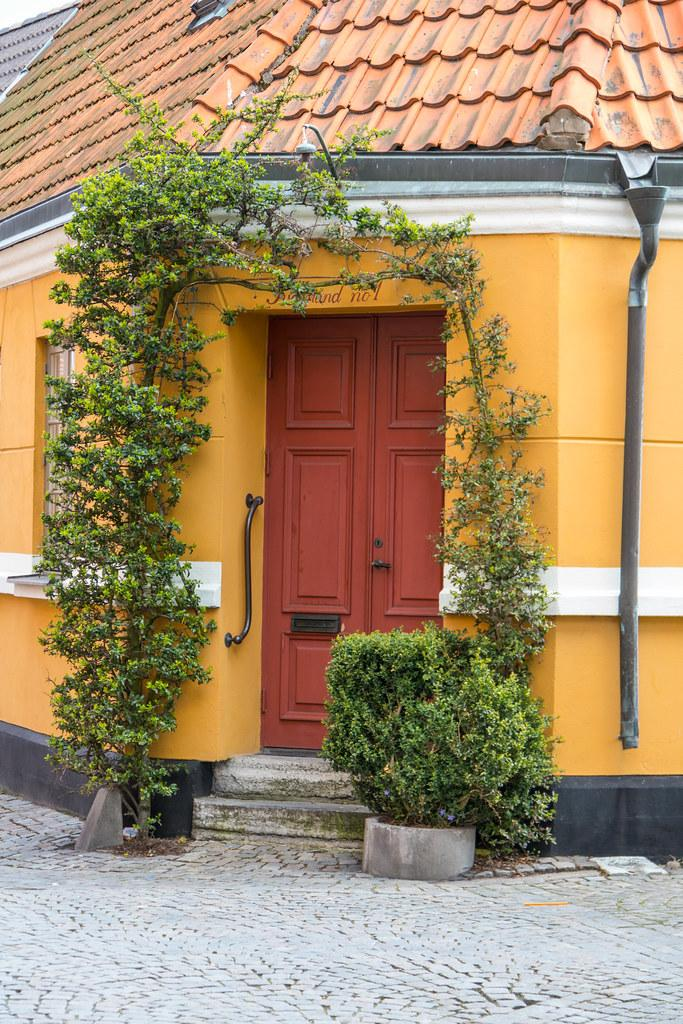door: (260, 307, 448, 752)
